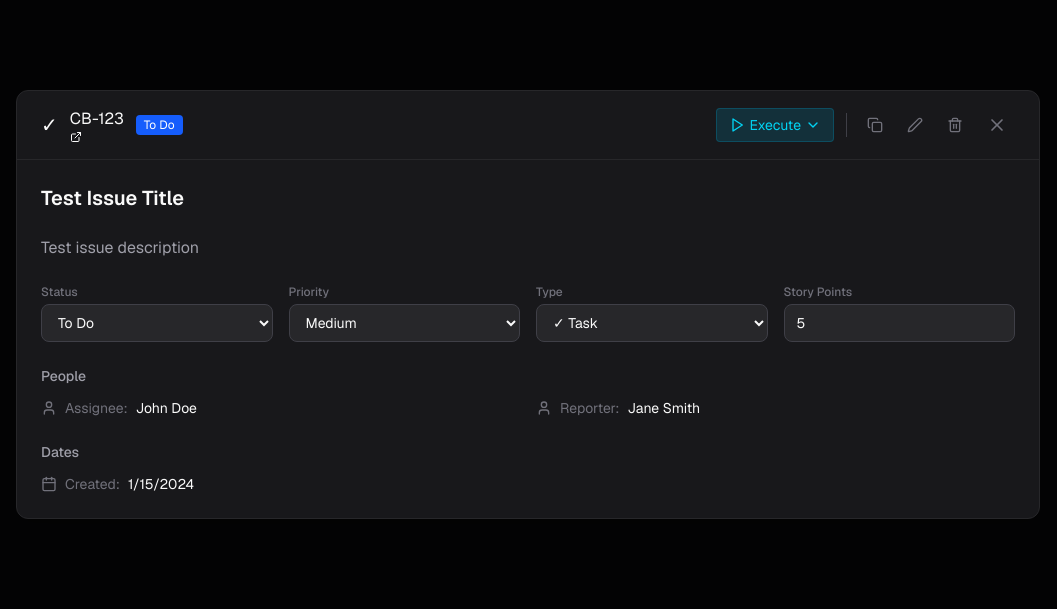
Scenario: IssueDetailModal › User Interactions › should enter edit mode when edit button is clicked
The width and height of the screenshot is (1057, 609).
Find button with title containing "Edit"
Click the button titled "Edit" at (915, 124), box [899,108,931,140]
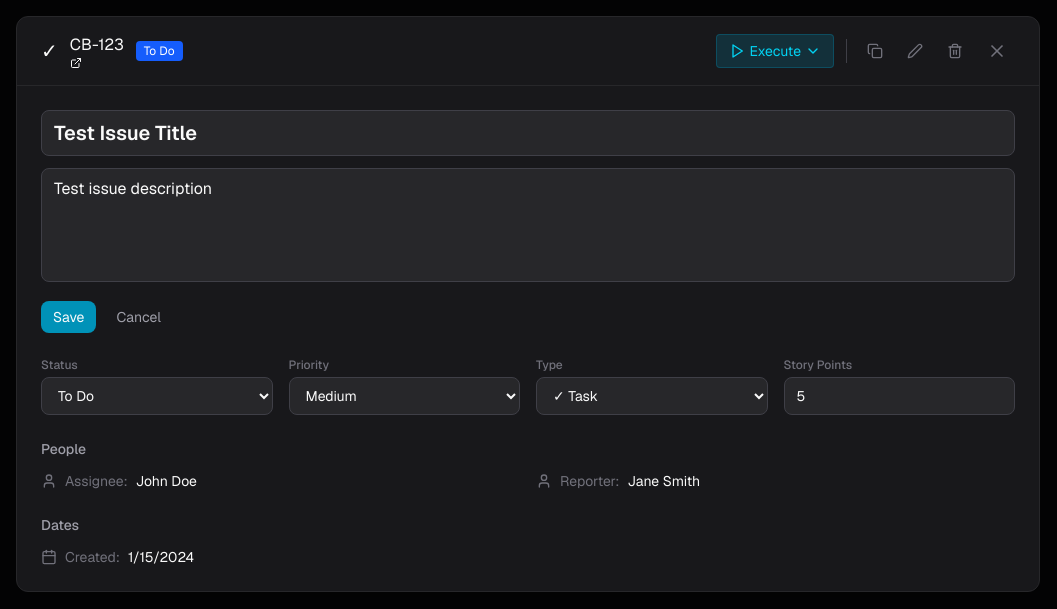
Result: the field showing "Test Issue Title" is shown at [41,110,1015,156]
Result: the text box showing "Test issue description" is shown at [41,168,1015,282]
Result: the button "Save" is shown at [41,301,96,333]
